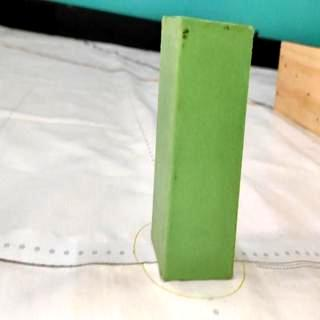greenbox: (159, 18, 246, 282)
